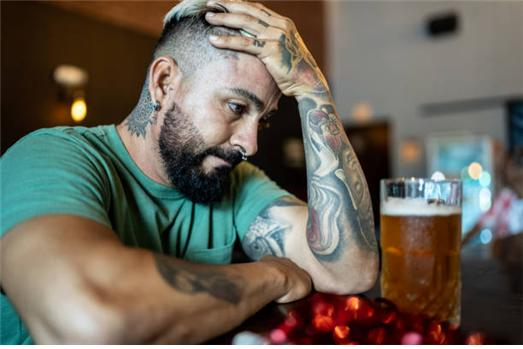alcohol: (379, 177, 462, 334)
